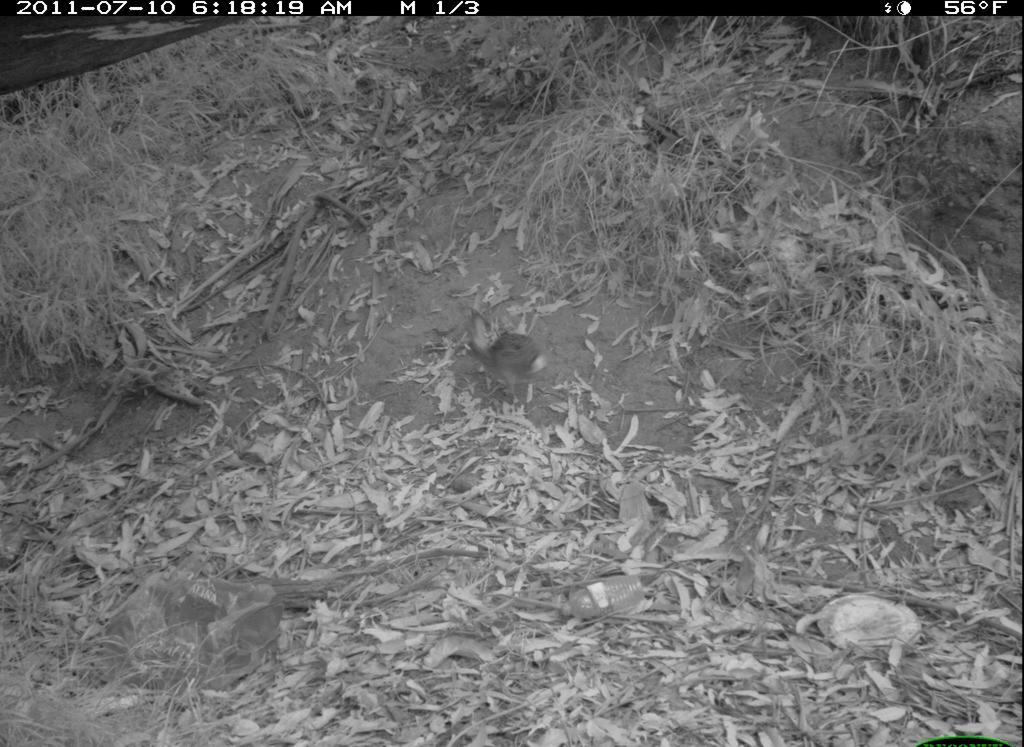rabbit: (462, 306, 555, 409)
